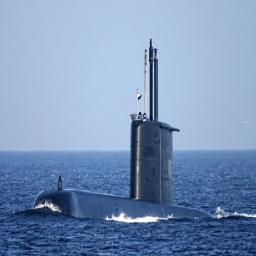submarine: (32, 33, 224, 220)
